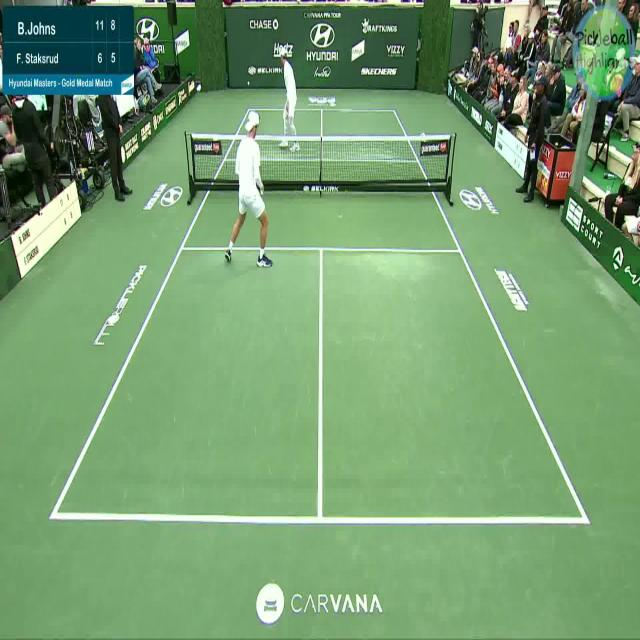ball: (247, 81, 250, 86)
